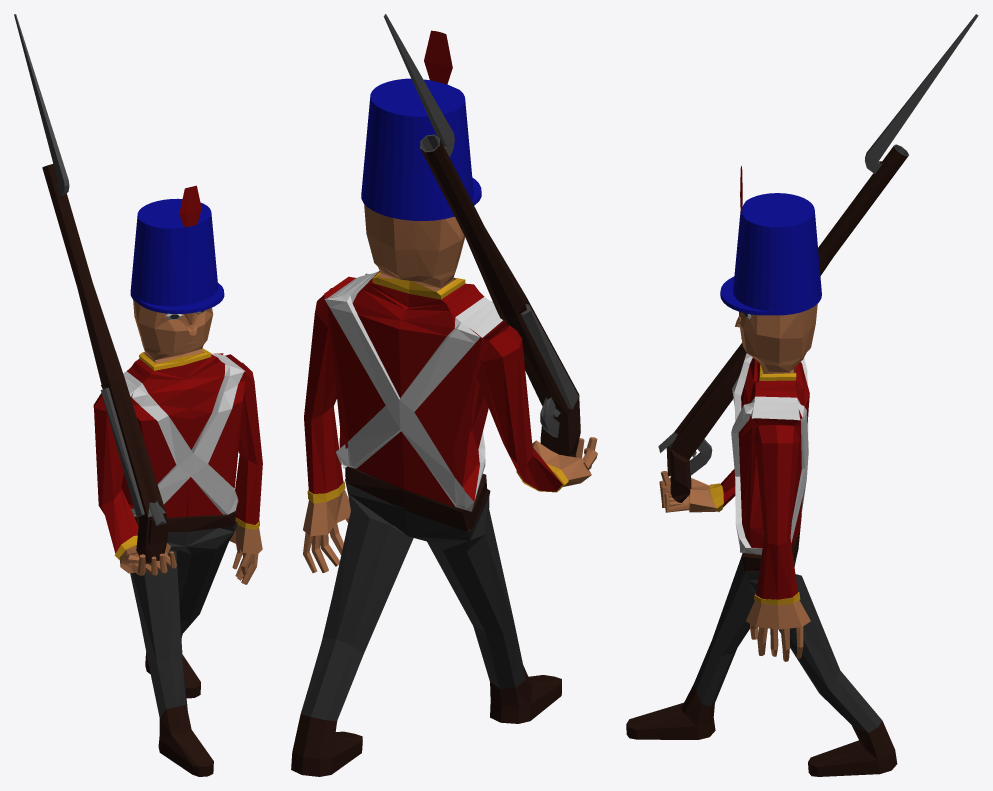
The model's file is Infantry_000035.obj.
3 views of the same model, side by side, from view 1: azimuth 30°, elevation 25°; view 2: azimuth 150°, elevation 25°; view 3: azimuth 270°, elevation 25° (orthographic). The views are drawn at different scales.
Parts seen in each view (by area): view 1: {Man}_Circle, {Mesket}_Cube.001; view 2: {Man}_Circle, {Mesket}_Cube.001; view 3: {Man}_Circle, {Mesket}_Cube.001.
Boxes of the visible parts, x1,y1,x2,y2 form: {Man}_Circle: (93, 185, 262, 776); {Mesket}_Cube.001: (14, 14, 167, 563); {Man}_Circle: (291, 30, 597, 776); {Mesket}_Cube.001: (383, 14, 580, 457); {Man}_Circle: (626, 166, 897, 776); {Mesket}_Cube.001: (658, 14, 978, 502).
Size of the model in its own units: 5.63 by 19.27 by 8.72.
